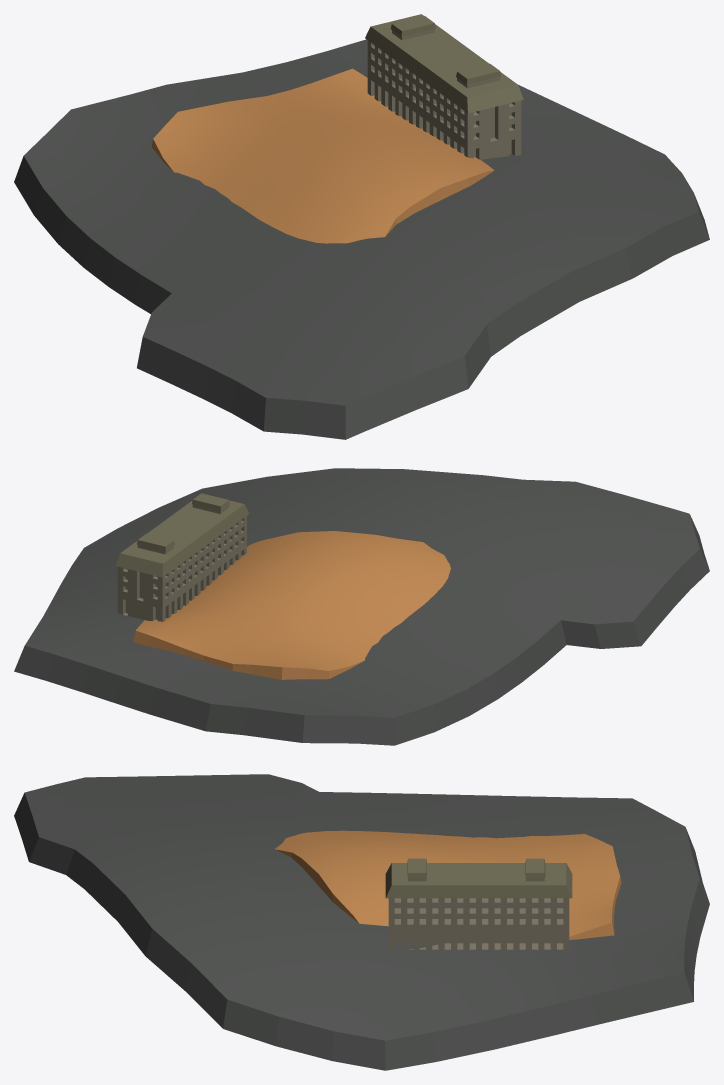
Rendered from SM_Worldmap_B03.FBX.
The picture shows the model from 3 angles, top to bottom: view 1: azimuth 30°, elevation 25°; view 2: azimuth 150°, elevation 25°; view 3: azimuth 270°, elevation 25°; orthographic projection. The views are drawn at different scales.
Visible parts, largest first — view 1: Object041; view 2: Object041; view 3: Object041.
Part boxes in pixels (x1,y1,x2,y2): Object041: (14,14,709,439); Object041: (14,468,709,745); Object041: (14,774,709,1070).
Size of the model in its own units: 288 by 63.4 by 317.
